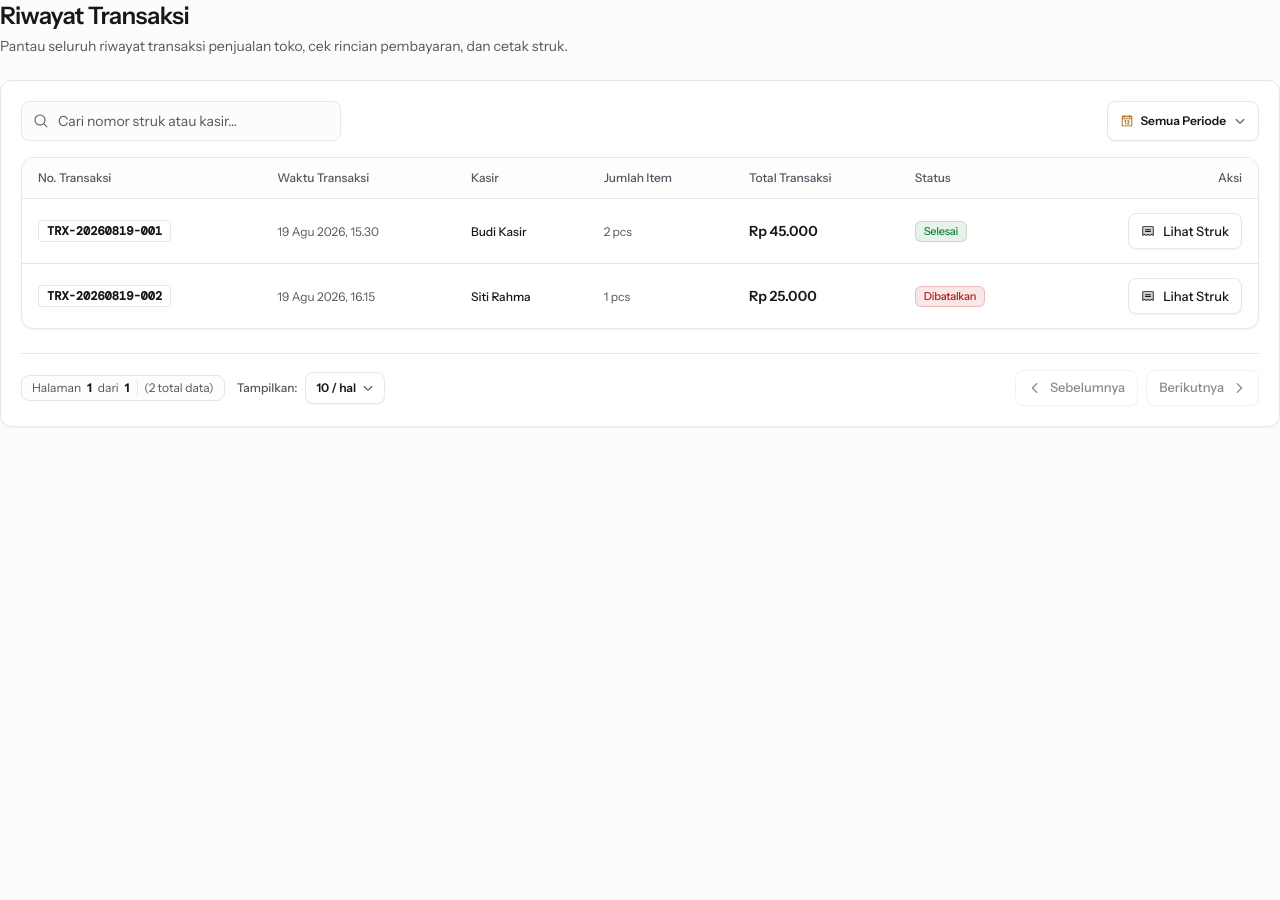
TransactionsView › opens receipt modal when clicking "Lihat Struk"
Click the button "Lihat Struk" in the row of "TRX-20260819-001". click: (1185,231)
box: [1128,213,1242,249]
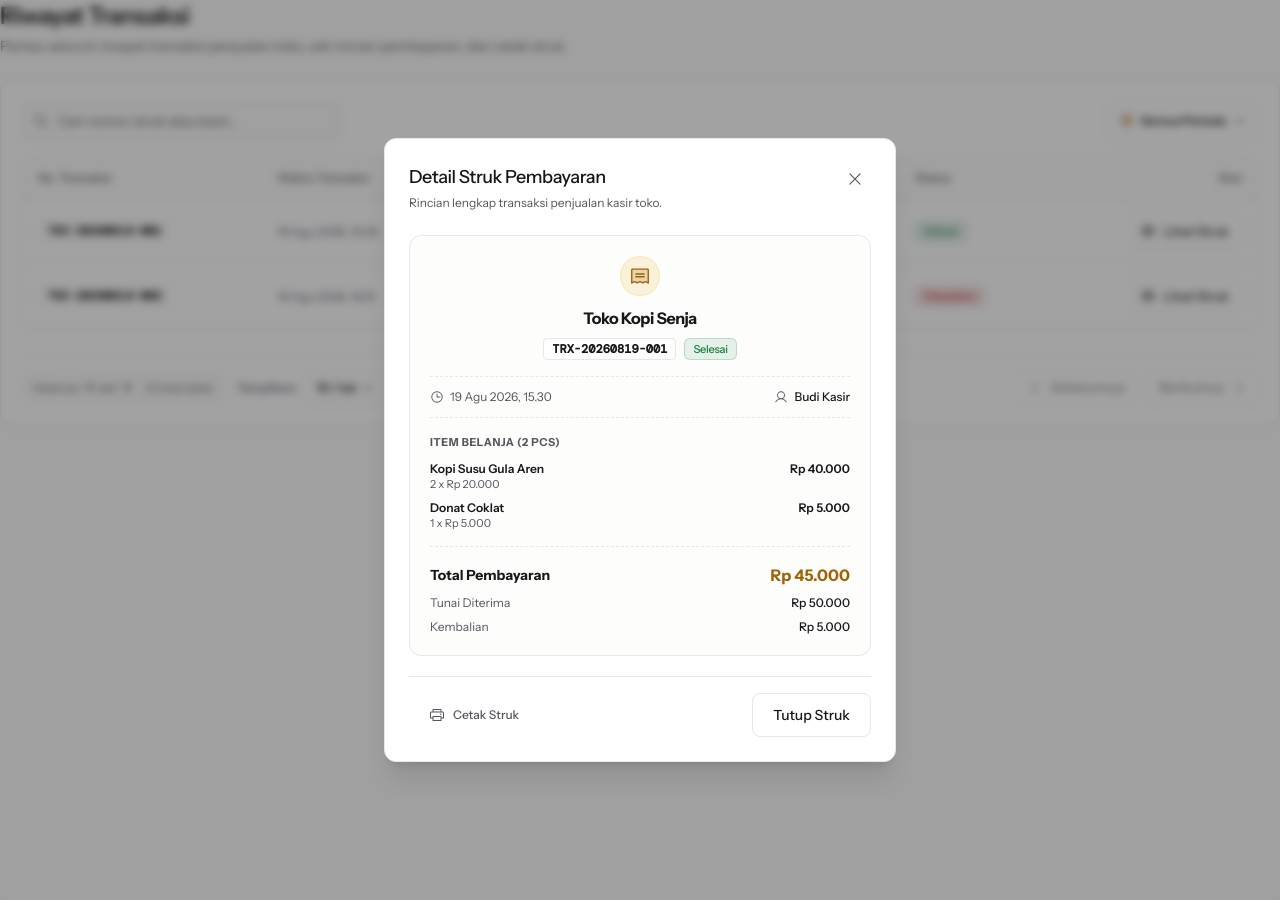
Expected: the heading "Detail Struk Pembayaran" is shown, [409,166,606,188]
Expected: the text "Kopi Susu Gula Aren" is shown, [430,461,544,476]
Expected: the text "Donat Coklat" is shown, [430,500,504,514]
// Close modal
Click the button "Tutup Struk". click: (812,715)
box: [752,693,871,737]
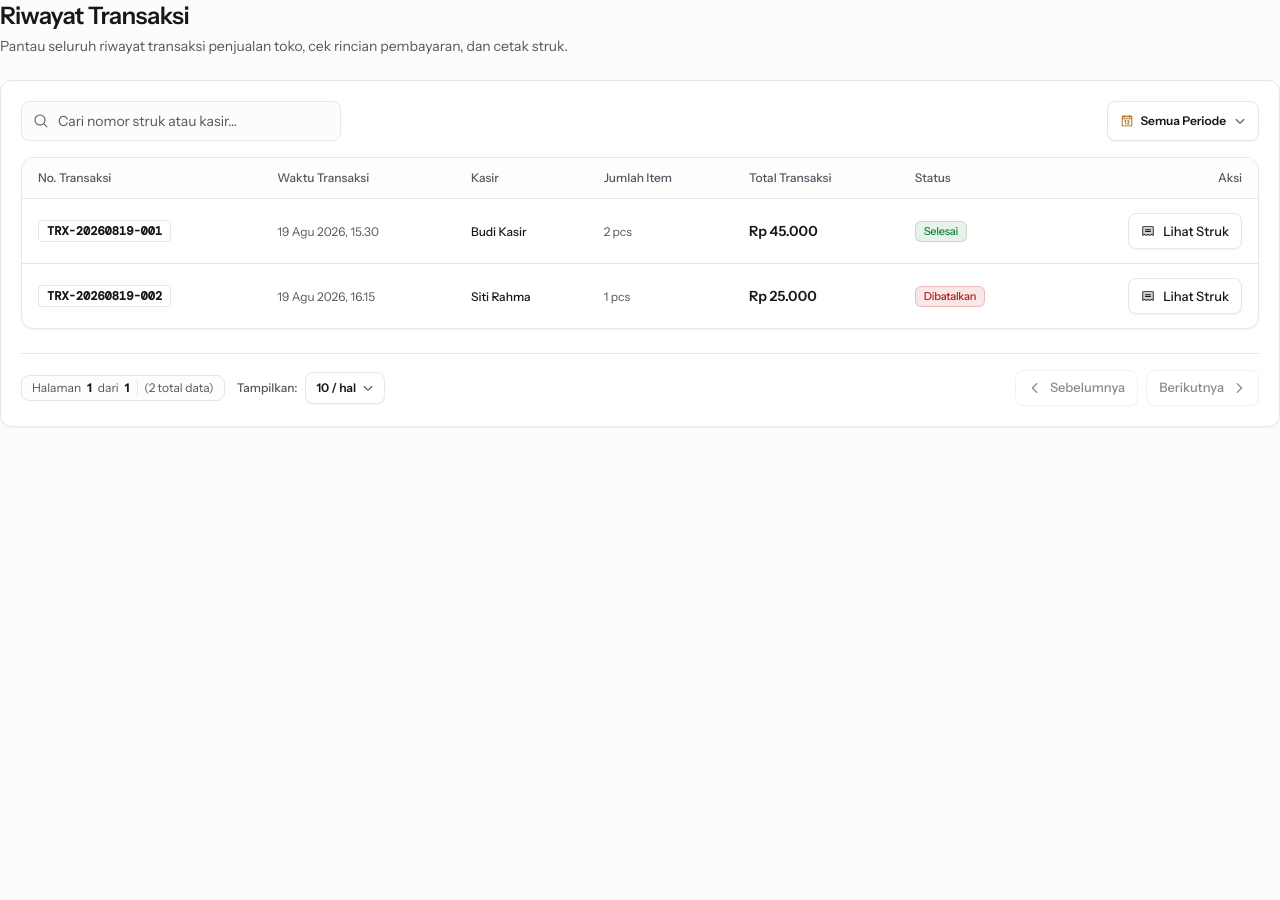
Expected: the heading "Detail Struk Pembayaran" is gone
